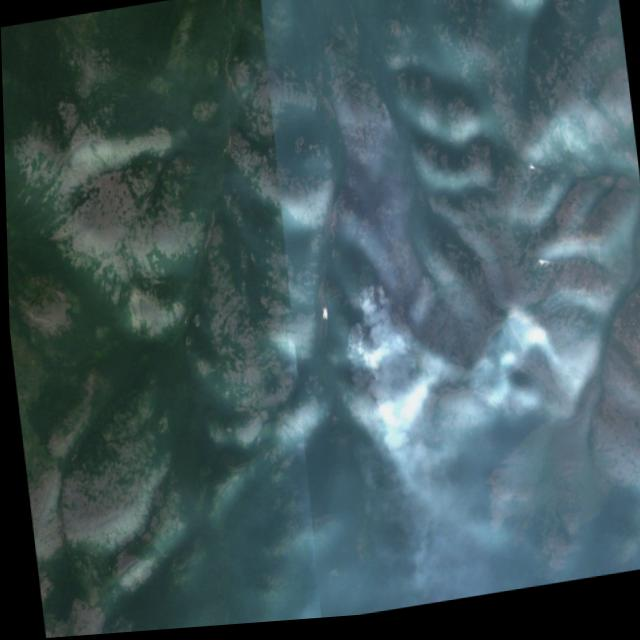fire: (330, 266, 444, 383)
